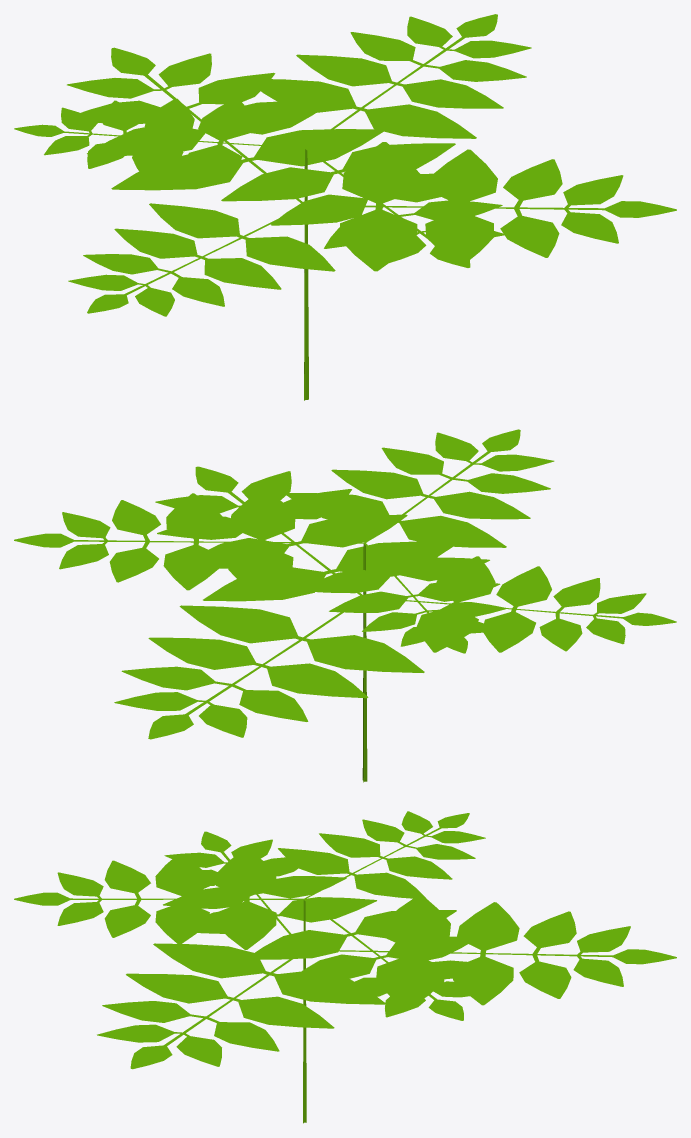
File: potato_low_02.fbx
3 views of the same model, one above another, from view 1: azimuth 30°, elevation 25°; view 2: azimuth 150°, elevation 25°; view 3: azimuth 270°, elevation 25° (orthographic). The views are drawn at different scales.
Parts seen in each view (by area): view 1: Plane.005; view 2: Plane.005; view 3: Plane.005.
Boxes of the visible parts, box(x1,y1,x2,y2) form: Plane.005: box(14, 14, 676, 400); Plane.005: box(14, 429, 676, 782); Plane.005: box(14, 811, 676, 1123).
Size of the model in its own units: 68.11 by 29.5 by 79.34.
